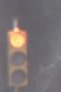Red: (7, 29, 29, 83)
